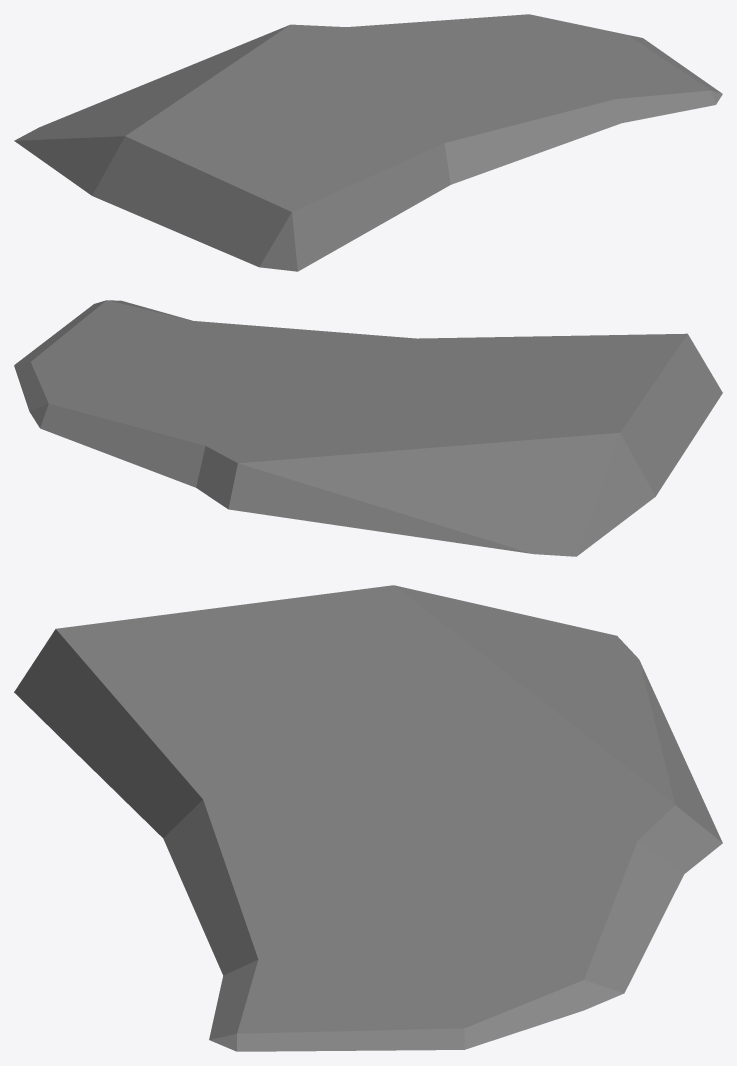
File: model_polytope_pavement01.fbx
3 renders of one model, top to bottom at view 1: azimuth 30°, elevation 25°; view 2: azimuth 150°, elevation 25°; view 3: azimuth 270°, elevation 25°, orthographic. The views are drawn at different scales.
Parts seen in each view (by area): view 1: model_polytope_pavement01; view 2: model_polytope_pavement01; view 3: model_polytope_pavement01.
Boxes of the visible parts, left/top/right/bottom form: model_polytope_pavement01: left=14, top=14, right=722, bottom=271; model_polytope_pavement01: left=14, top=300, right=722, bottom=556; model_polytope_pavement01: left=14, top=585, right=722, bottom=1051.
Bounding box in the file's own units: 84.44 × 7.19 × 60.82.
